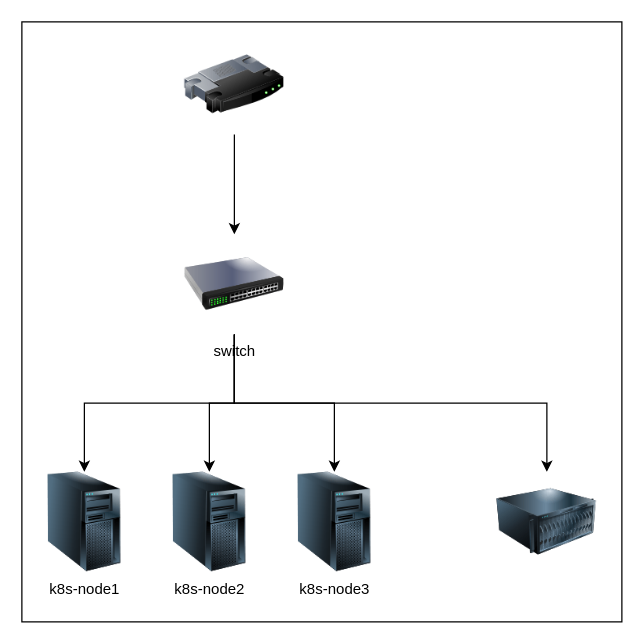
The diagram is 644 pixels wide and 644 high, and some of its shapes have lost their labels. The shapes that lost their labels are listed below. From the top down, each one's centre as x and y in pixels, then its label:
pixel 234 84: router
pixel 546 521: NAS
